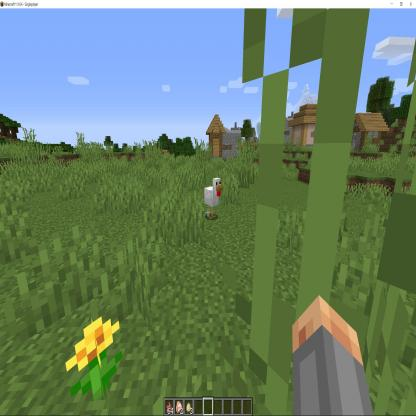minecraft-pigs: (203, 177, 224, 221)
